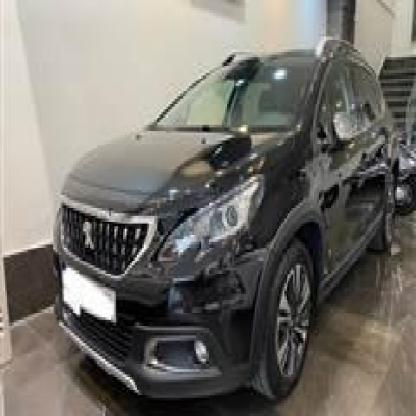Car: (33, 41, 406, 400)
